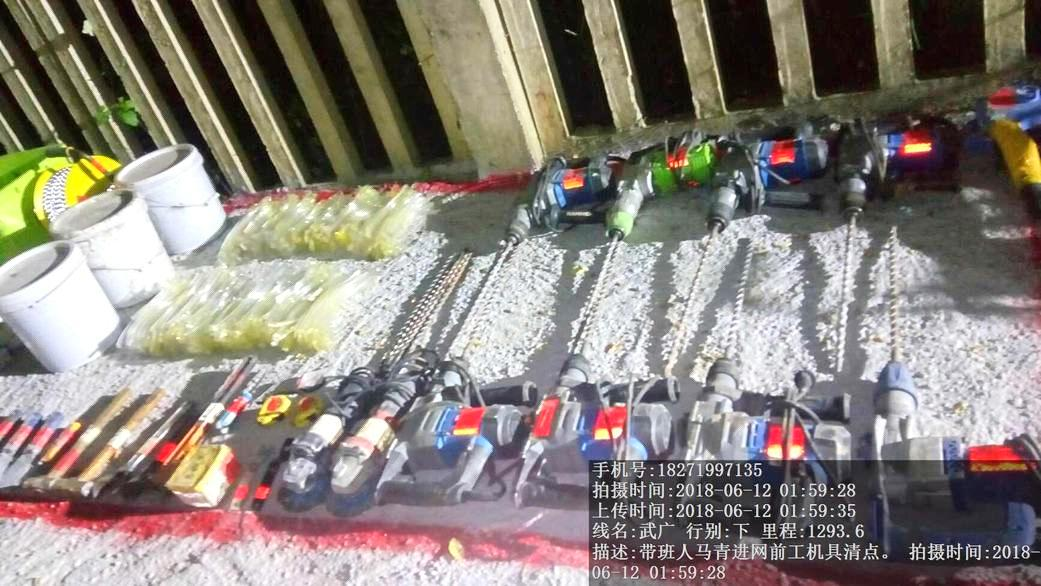DMJ: (335, 381, 415, 515), (277, 386, 354, 511)
DZ: (518, 339, 670, 456), (489, 149, 604, 302), (417, 360, 535, 499), (714, 128, 829, 258), (840, 116, 963, 236), (612, 139, 714, 268)
